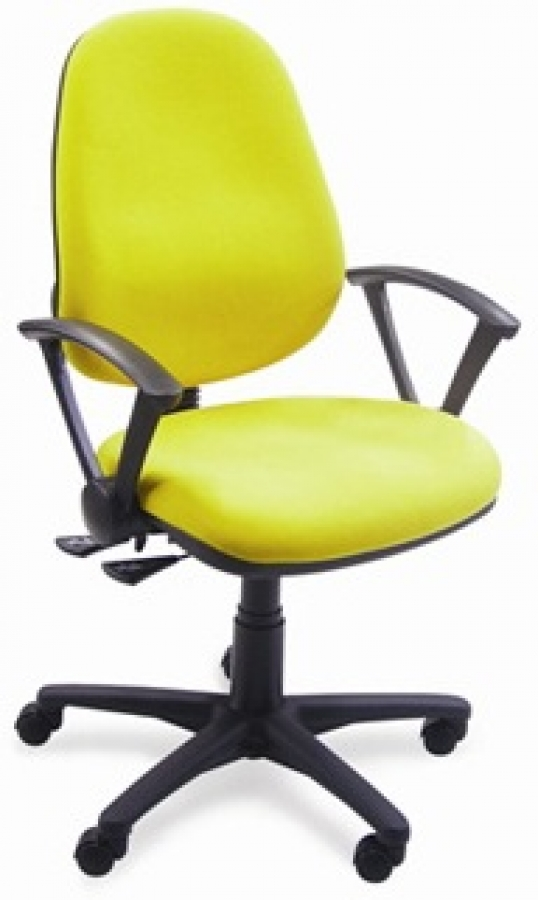chairs: (7, 10, 525, 900)
